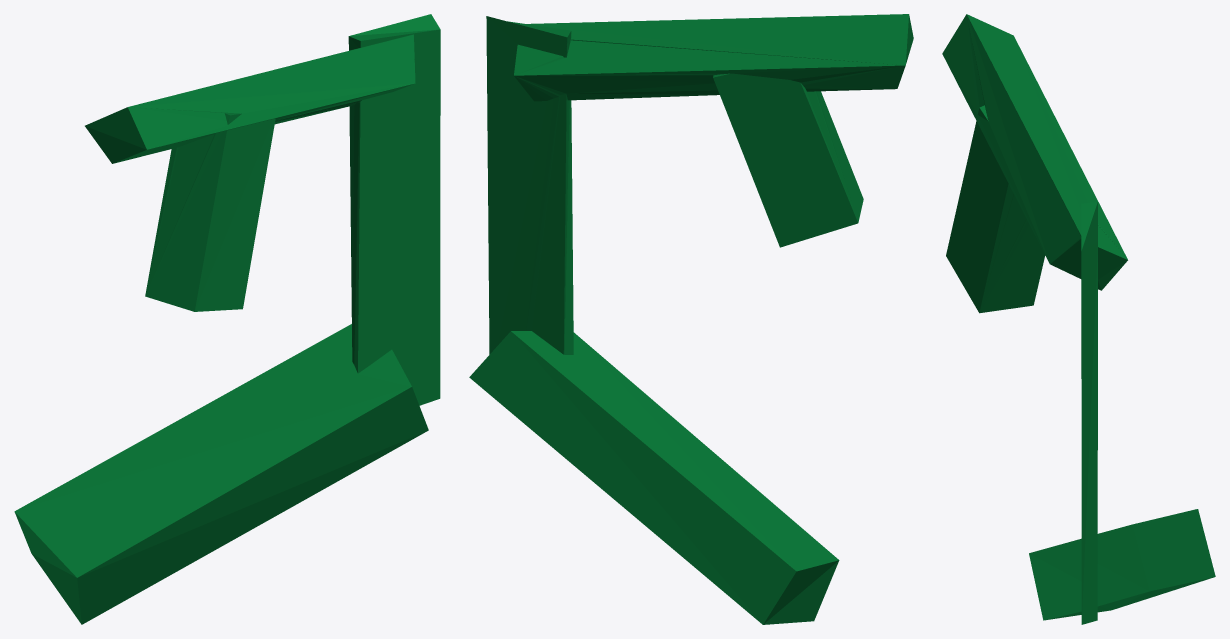
The picture shows the model from 3 angles, left to right: view 1: azimuth 30°, elevation 25°; view 2: azimuth 150°, elevation 25°; view 3: azimuth 270°, elevation 25°; orthographic projection. The views are drawn at different scales.
Parts seen in each view (by area): view 1: 132_Cube.547; view 2: 132_Cube.547; view 3: 132_Cube.547.
Part boxes in pixels (<box>): 132_Cube.547: <box>14,14,440,624</box>; 132_Cube.547: <box>469,14,913,624</box>; 132_Cube.547: <box>942,14,1215,624</box>.
Bounding box in the file's own units: 13.35 × 18.89 × 8.02.
